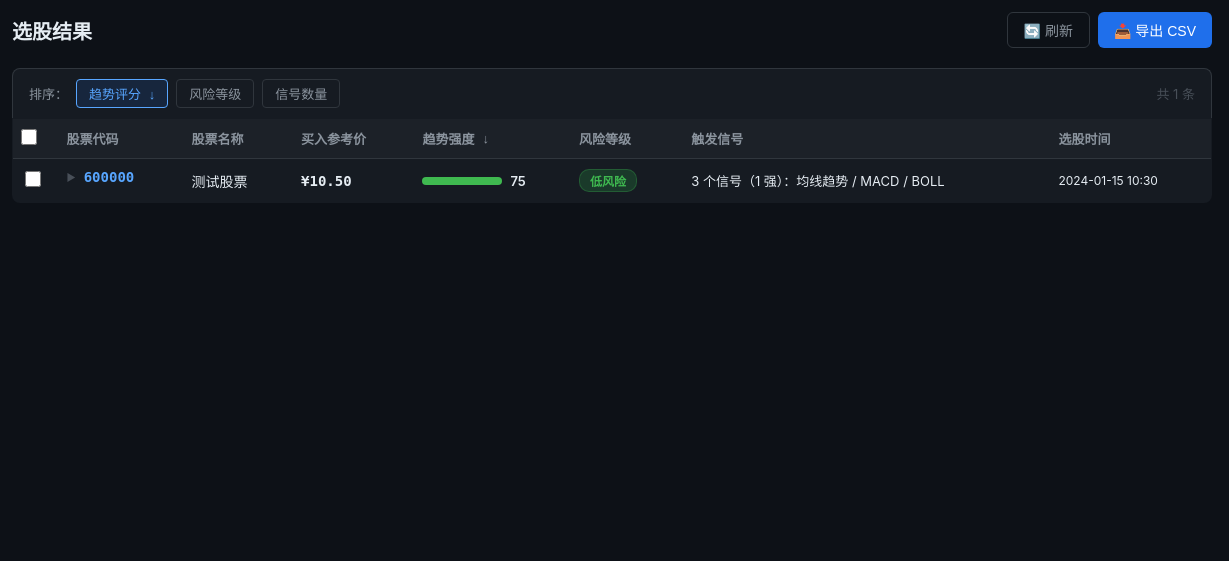
Test: ScreenerResultsView - 信号标签增强 › 强度颜色编码 CSS 类映射 › 标签内显示强度文字标注"强"/"中"/"弱"
The image size is (1229, 561).
Click the row with class "result-row". click: (612, 180)
box: [12,158,1212,202]
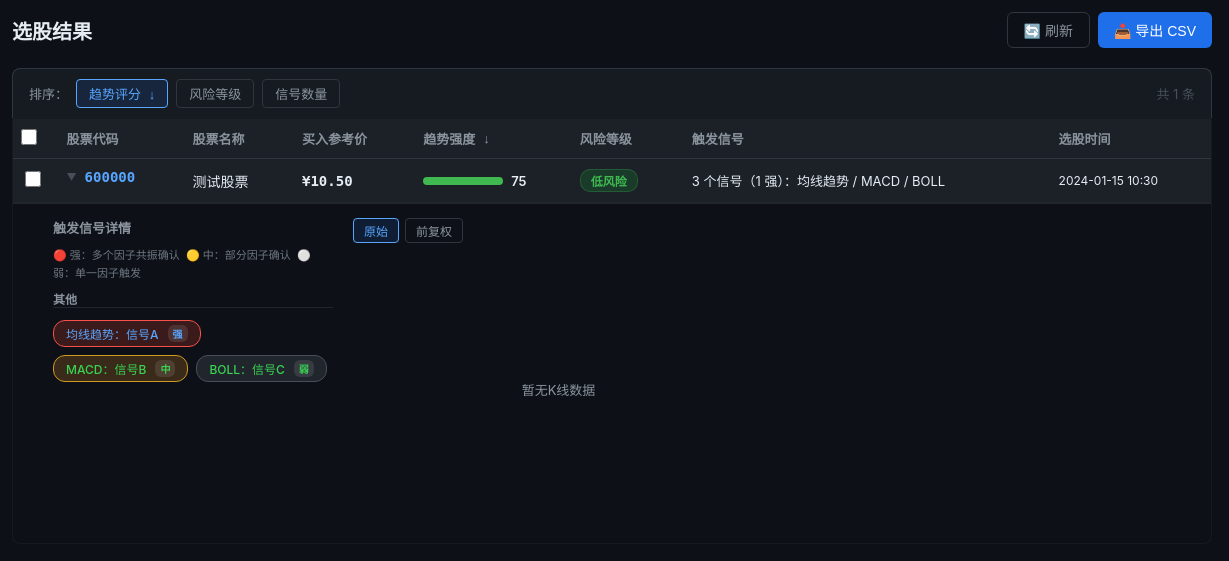
expect the number of elements with class "strength-label" is 3: met, box [168,325,188,342]; [155,360,175,377]; [294,360,314,377]
expect the text with class "strength-label" reads "强": met, box [172,328,182,340]
expect the text with class "strength-label" reads "中": met, box [160,363,170,375]
